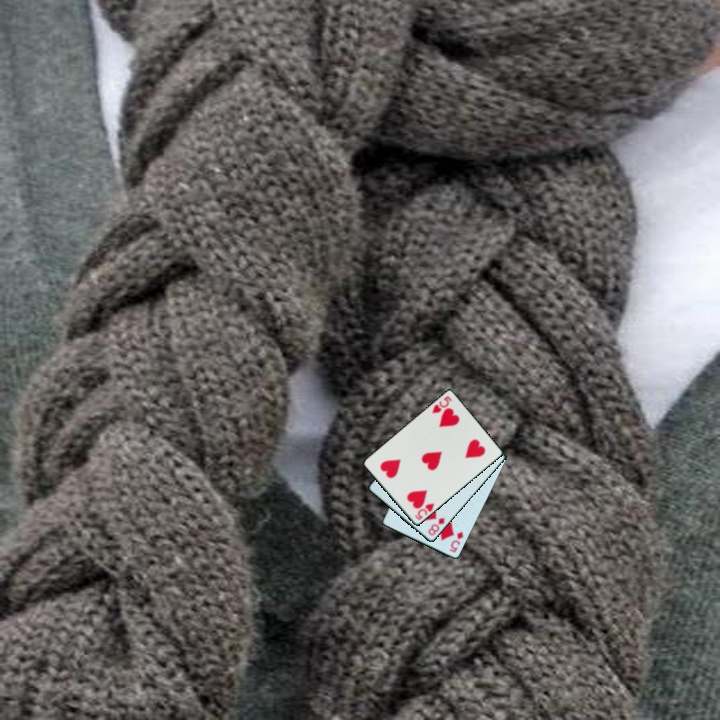5d: (446, 528, 466, 556)
5h: (429, 392, 455, 416), (411, 500, 437, 523)
8d: (425, 514, 447, 539)
